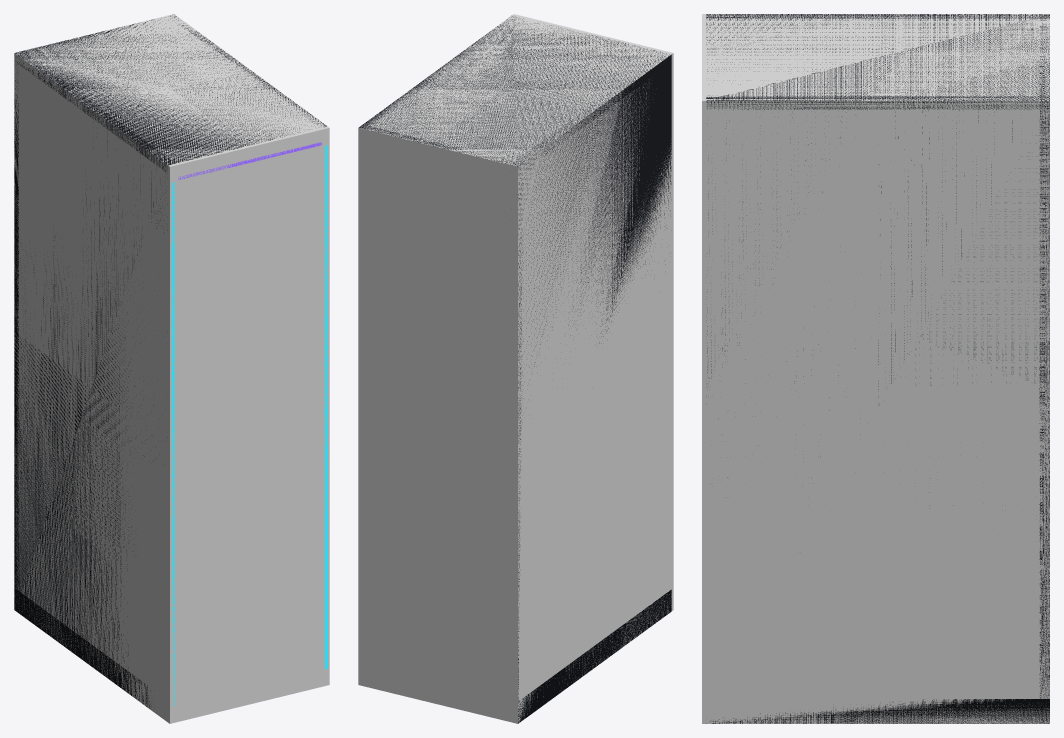
Rendered from Tech_ServerRack_B.glb.
3 renders of one model, left to right at view 1: azimuth 30°, elevation 25°; view 2: azimuth 150°, elevation 25°; view 3: azimuth 270°, elevation 25°, orthographic. The views are drawn at different scales.
Parts seen in each view (by area): view 1: Tech_ServerRack_B_COL, Tech_ServerRack_B; view 2: Tech_ServerRack_B_COL, Tech_ServerRack_B; view 3: Tech_ServerRack_B_COL, Tech_ServerRack_B.
Part boxes in pixels (x1=…): Tech_ServerRack_B_COL: x1=14, y1=14, x2=329, y2=723; Tech_ServerRack_B: x1=14, y1=14, x2=327, y2=708; Tech_ServerRack_B_COL: x1=358, y1=14, x2=673, y2=723; Tech_ServerRack_B: x1=358, y1=15, x2=671, y2=723; Tech_ServerRack_B_COL: x1=702, y1=14, x2=1049, y2=723; Tech_ServerRack_B: x1=706, y1=14, x2=1049, y2=723.
Size of the model in its own units: 0.6 by 2 by 1.01.
